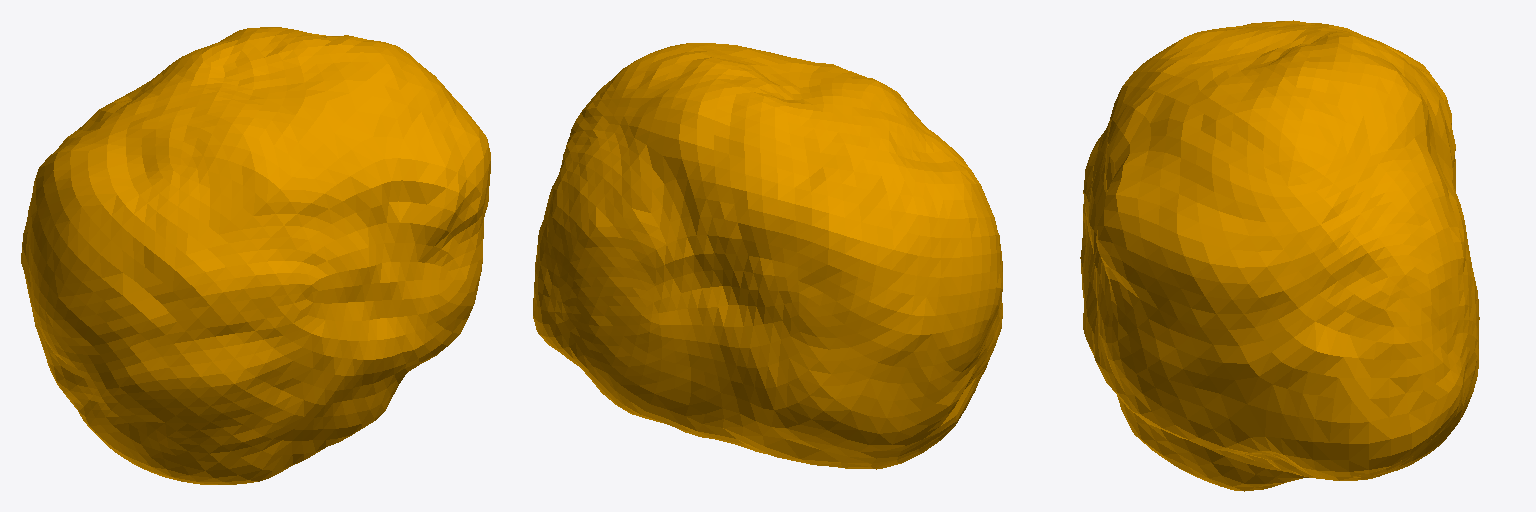
robot.urdf — rock:
<?xml version="1.0" ?>
<robot name="rock">
  <link name="rock">
    <inertial>
      <mass value="0.25"/>
      <origin rpy="0 0 0" xyz="0 0 0"/>
      <inertia ixx="0.00025" ixy="0" ixz="0" iyy="0.00025" iyz="0" izz="0.00025"/>
    </inertial>
    <collision name="rock_collision">
      <origin rpy="0 0 0" xyz="0 0 0"/>
      <geometry>
        <mesh filename="package://rocks/collision/18.stl" scale="1 1 1"/>
      </geometry>
    </collision>
    <visual name="rock_visual">
      <origin rpy="0 0 0" xyz="0 0 0"/>
      <geometry>
        <mesh filename="package://rocks/visual/18.dae" scale="1 1 1"/>
      </geometry>
    </visual>
  </link>
</robot>

--- What the picture shows (computed from the rendered views, not written in the file) ---
Views: 3 orthographic renders of the robot side by side, from view 1: azimuth 30°, elevation 25°; view 2: azimuth 150°, elevation 25°; view 3: azimuth 270°, elevation 25°.
Model rock with 1 links and 0 joints (none), rooted at rock, posed every joint at zero.
Links seen in each view (by area): view 1: rock; view 2: rock; view 3: rock.
Link boxes in pixels (box(x1,y1,x2,y2)): rock: box(21, 27, 490, 484); rock: box(533, 43, 1002, 469); rock: box(1080, 20, 1479, 491).
Size in the robot's own frame: 0.0908 by 0.065 by 0.0789 metres.
Meshes: 1 distinct files referenced, 1 mesh visuals loaded (1 Collada DAE).